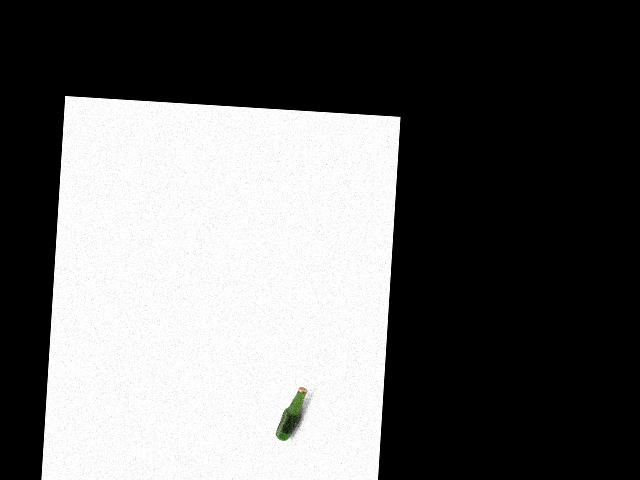beer: (275, 385, 308, 442)
